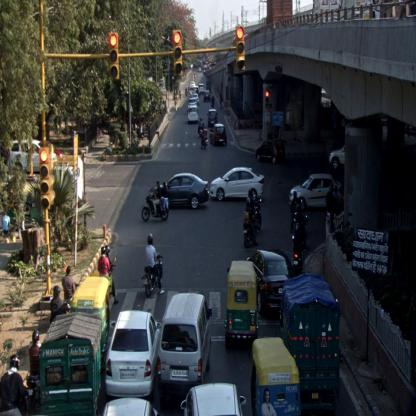car: (158, 293, 212, 388), (103, 310, 160, 398), (247, 250, 294, 318), (181, 382, 246, 416), (152, 172, 209, 209), (290, 170, 344, 208), (210, 166, 267, 201), (255, 139, 287, 165), (209, 126, 227, 147), (207, 107, 217, 126), (187, 107, 198, 122), (204, 90, 210, 102), (198, 84, 204, 95)
motorcycle: (142, 232, 164, 296), (99, 243, 119, 306), (25, 331, 40, 414), (142, 180, 169, 221), (242, 193, 257, 244), (291, 224, 303, 272), (201, 130, 207, 151), (198, 117, 204, 136)
truck: (280, 275, 338, 410), (40, 313, 103, 415)
